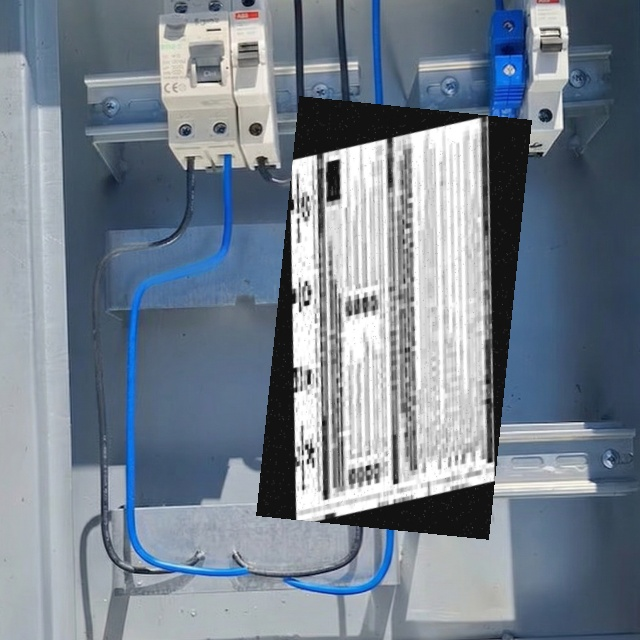electricity-bill: (256, 96, 532, 540)
